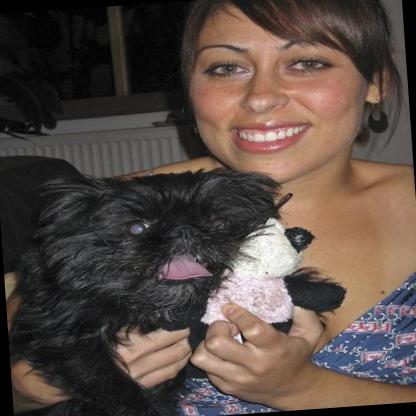affenpinscher: (0, 156, 298, 416)
